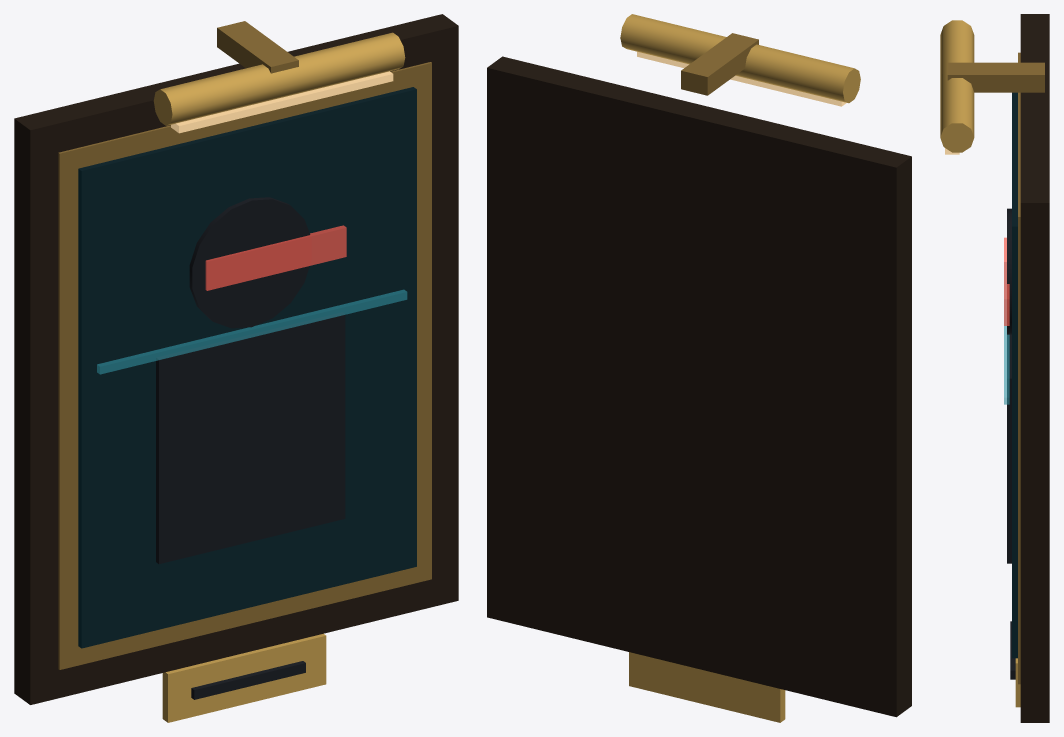
The model's file is hp_room_desire_portrait_panel.glb.
The picture shows the model from 3 angles, left to right: view 1: azimuth 30°, elevation 25°; view 2: azimuth 150°, elevation 25°; view 3: azimuth 270°, elevation 25°; orthographic projection. The views are drawn at different scales.
Parts seen in each view (by area): view 1: canvas, frame_outer, subject_torso, frame_inner, subject_head, picture_light, plaque, redaction, scanline, picture_light_glow, picture_light_arm, plaque_text; view 2: frame_outer, picture_light, plaque, picture_light_arm, picture_light_glow; view 3: frame_outer, picture_light, canvas, picture_light_arm, frame_inner, subject_torso, scanline, subject_head, redaction, plaque, plaque_text.
Boxes of the visible parts, <box> form: canvas: <box>78,87,416,648</box>; frame_outer: <box>14,14,458,704</box>; subject_torso: <box>156,312,345,563</box>; frame_inner: <box>58,62,431,669</box>; subject_head: <box>189,197,311,328</box>; picture_light: <box>153,32,405,125</box>; plaque: <box>162,633,326,722</box>; redaction: <box>205,225,346,290</box>; scanline: <box>97,289,407,374</box>; picture_light_glow: <box>171,71,393,133</box>; picture_light_arm: <box>217,21,298,73</box>; plaque_text: <box>191,661,305,699</box>; frame_outer: <box>487,56,911,717</box>; picture_light: <box>620,14,860,103</box>; plaque: <box>629,652,785,722</box>; picture_light_arm: <box>681,33,758,95</box>; picture_light_glow: <box>637,51,846,106</box>; frame_outer: <box>1020,14,1049,722</box>; picture_light: <box>940,20,974,152</box>; canvas: <box>1012,92,1017,658</box>; picture_light_arm: <box>947,62,1044,92</box>; frame_inner: <box>1018,52,1020,684</box>; subject_torso: <box>1007,334,1011,563</box>; scanline: <box>1004,262,1009,404</box>; subject_head: <box>1007,208,1011,334</box>; redaction: <box>1004,237,1009,325</box>; plaque: <box>1015,658,1020,707</box>; plaque_text: <box>1010,621,1015,679</box>.
Size of the model in its own units: 0.92 by 1.37 by 0.225.
